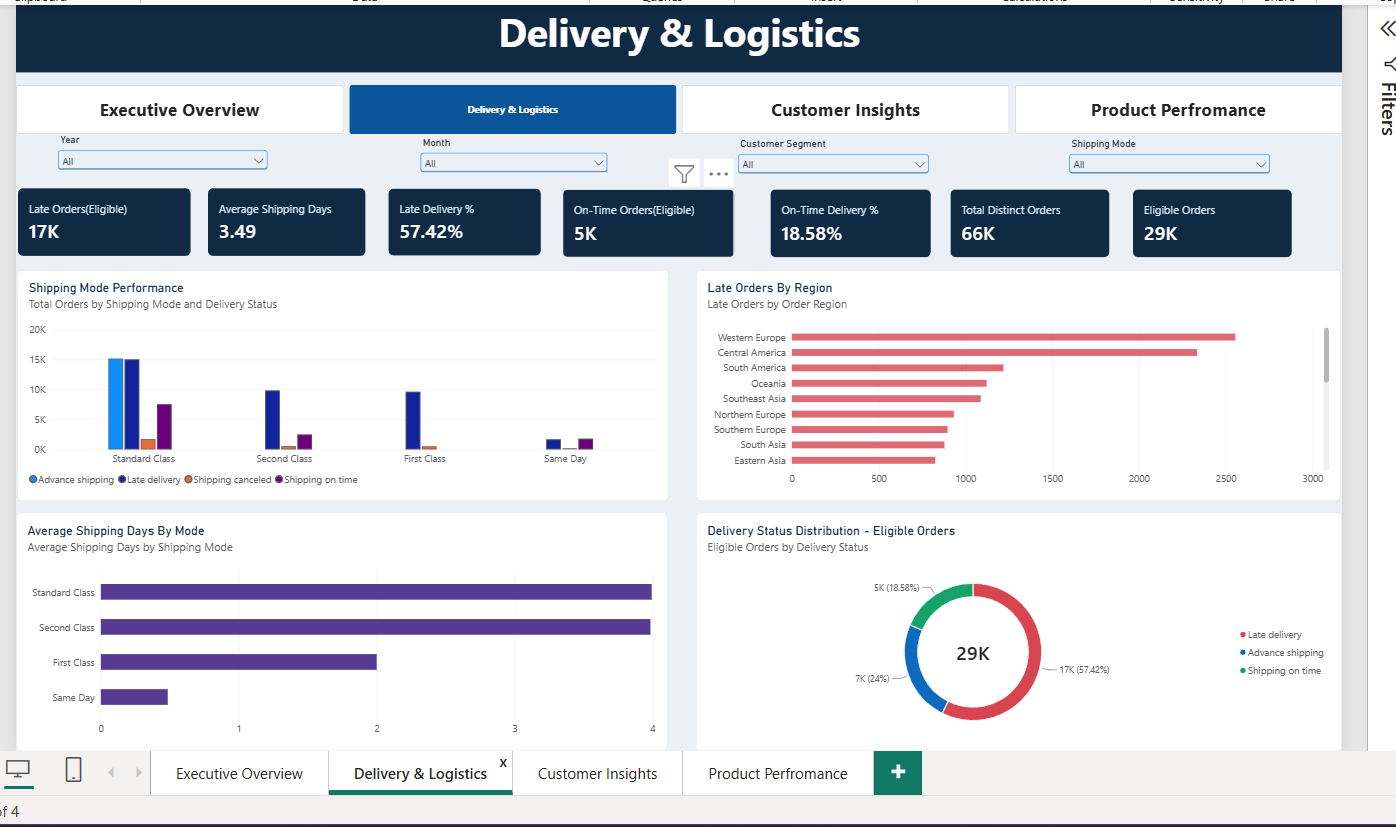

The dashboard page shown, as its layout file describes it:
{"tool":"powerbi","page":{"name":"Delivery & Logistics","canvas":[1920,1080],"ordinal":1},"visuals":[{"type":"cardVisual","fields":{"Data":["Fact_ecom.Total Orders"]},"box":[1352,266,232,100],"z":0},{"type":"cardVisual","fields":{"Data":["DataCoSupplyChainDataset.On-Time Delivery %"]},"box":[1092,266,234,100],"z":1000},{"type":"cardVisual","fields":{"Data":["DataCoSupplyChainDataset.Average Shipping Days"]},"box":[276,264,230,100],"z":2000},{"type":"cardVisual","fields":{"Data":["DataCoSupplyChainDataset.On-Time Orders"]},"box":[790,266,250,100],"z":3000},{"type":"cardVisual","fields":{"Data":["DataCoSupplyChainDataset.Late Orders"]},"box":[2,264,252,100],"z":4000},{"type":"cardVisual","fields":{"Data":["DataCoSupplyChainDataset.Late Delivery %"]},"box":[538,264,224,100],"z":5000},{"type":"donutChart","title":"Delivery Status Distribution - Eligible Orders","fields":{"Category":["Fact_ecom.Delivery Status"],"Y":["DataCoSupplyChainDataset.Eligible Orders"]},"box":[984.5,734.7,935.6,345.6],"z":6000},{"type":"clusteredColumnChart","title":"Shipping Mode Performance","fields":{"Category":["Fact_ecom.Shipping Mode"],"Series":["Fact_ecom.Delivery Status"],"Y":["Fact_ecom.Total Orders"]},"box":[2,384,942.8,334.8],"z":7000},{"type":"clusteredBarChart","title":"Average Shipping Days By Mode ","fields":{"Category":["Fact_ecom.Shipping Mode"],"Y":["DataCoSupplyChainDataset.Average Shipping Days"]},"box":[0,734.7,942.8,345.6],"z":8000},{"type":"clusteredBarChart","title":"Late Orders By Region","fields":{"Category":["Order_Regio_Lookup.Order Region"],"Y":["DataCoSupplyChainDataset.Late Orders"]},"box":[984.5,383.6,933.8,334.8],"z":9000},{"type":"slicer","fields":{"Values":["Dim_Date.Month"]},"box":[580.9,189.3,280.5,61.5],"z":10000},{"type":"slicer","fields":{"Values":["Dim_Date.Year"]},"box":[56.1,185.7,313.1,65.1],"z":11000},{"type":"slicer","fields":{"Values":["Dim_customers.Customer Segment"]},"box":[1040.6,191.1,285.9,59.7],"z":12000},{"type":"slicer","fields":{"Values":["Fact_ecom.Shipping Mode"]},"box":[1520.1,191.1,300.4,68.8],"z":13000},{"type":"textbox","box":[0,0,1920.1,97.7],"z":14000},{"type":"pageNavigator","box":[0,115.8,1920.4,71],"z":15000},{"type":"cardVisual","fields":{"Data":["DataCoSupplyChainDataset.Eligible Orders"]},"box":[1616,266,232,100],"z":15001}]}

Visuals, with their boxes on the page's 1920x1080 design canvas (x1, y1, x2, y2). These are canvas units, not pixel positions in the 1396x827 screenshot, which may show the page scaled, cropped or inside an application window:
cardVisual - Fact_ecom.Total Orders: rect(1352, 266, 1584, 366)
cardVisual - DataCoSupplyChainDataset.On-Time Delivery %: rect(1092, 266, 1326, 366)
cardVisual - DataCoSupplyChainDataset.Average Shipping Days: rect(276, 264, 506, 364)
cardVisual - DataCoSupplyChainDataset.On-Time Orders: rect(790, 266, 1040, 366)
cardVisual - DataCoSupplyChainDataset.Late Orders: rect(2, 264, 254, 364)
cardVisual - DataCoSupplyChainDataset.Late Delivery %: rect(538, 264, 762, 364)
"Delivery Status Distribution - Eligible Orders" donutChart: rect(984, 735, 1920, 1080)
"Shipping Mode Performance" clusteredColumnChart: rect(2, 384, 945, 719)
"Average Shipping Days By Mode " clusteredBarChart: rect(0, 735, 943, 1080)
"Late Orders By Region" clusteredBarChart: rect(984, 384, 1918, 718)
slicer - Dim_Date.Month: rect(581, 189, 861, 251)
slicer - Dim_Date.Year: rect(56, 186, 369, 251)
slicer - Dim_customers.Customer Segment: rect(1041, 191, 1326, 251)
slicer - Fact_ecom.Shipping Mode: rect(1520, 191, 1820, 260)
textbox: rect(0, 0, 1920, 98)
pageNavigator: rect(0, 116, 1920, 187)
cardVisual - DataCoSupplyChainDataset.Eligible Orders: rect(1616, 266, 1848, 366)
